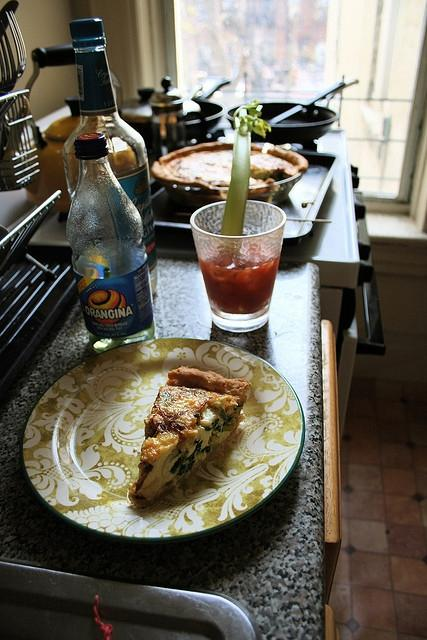celery: (220, 99, 271, 236)
